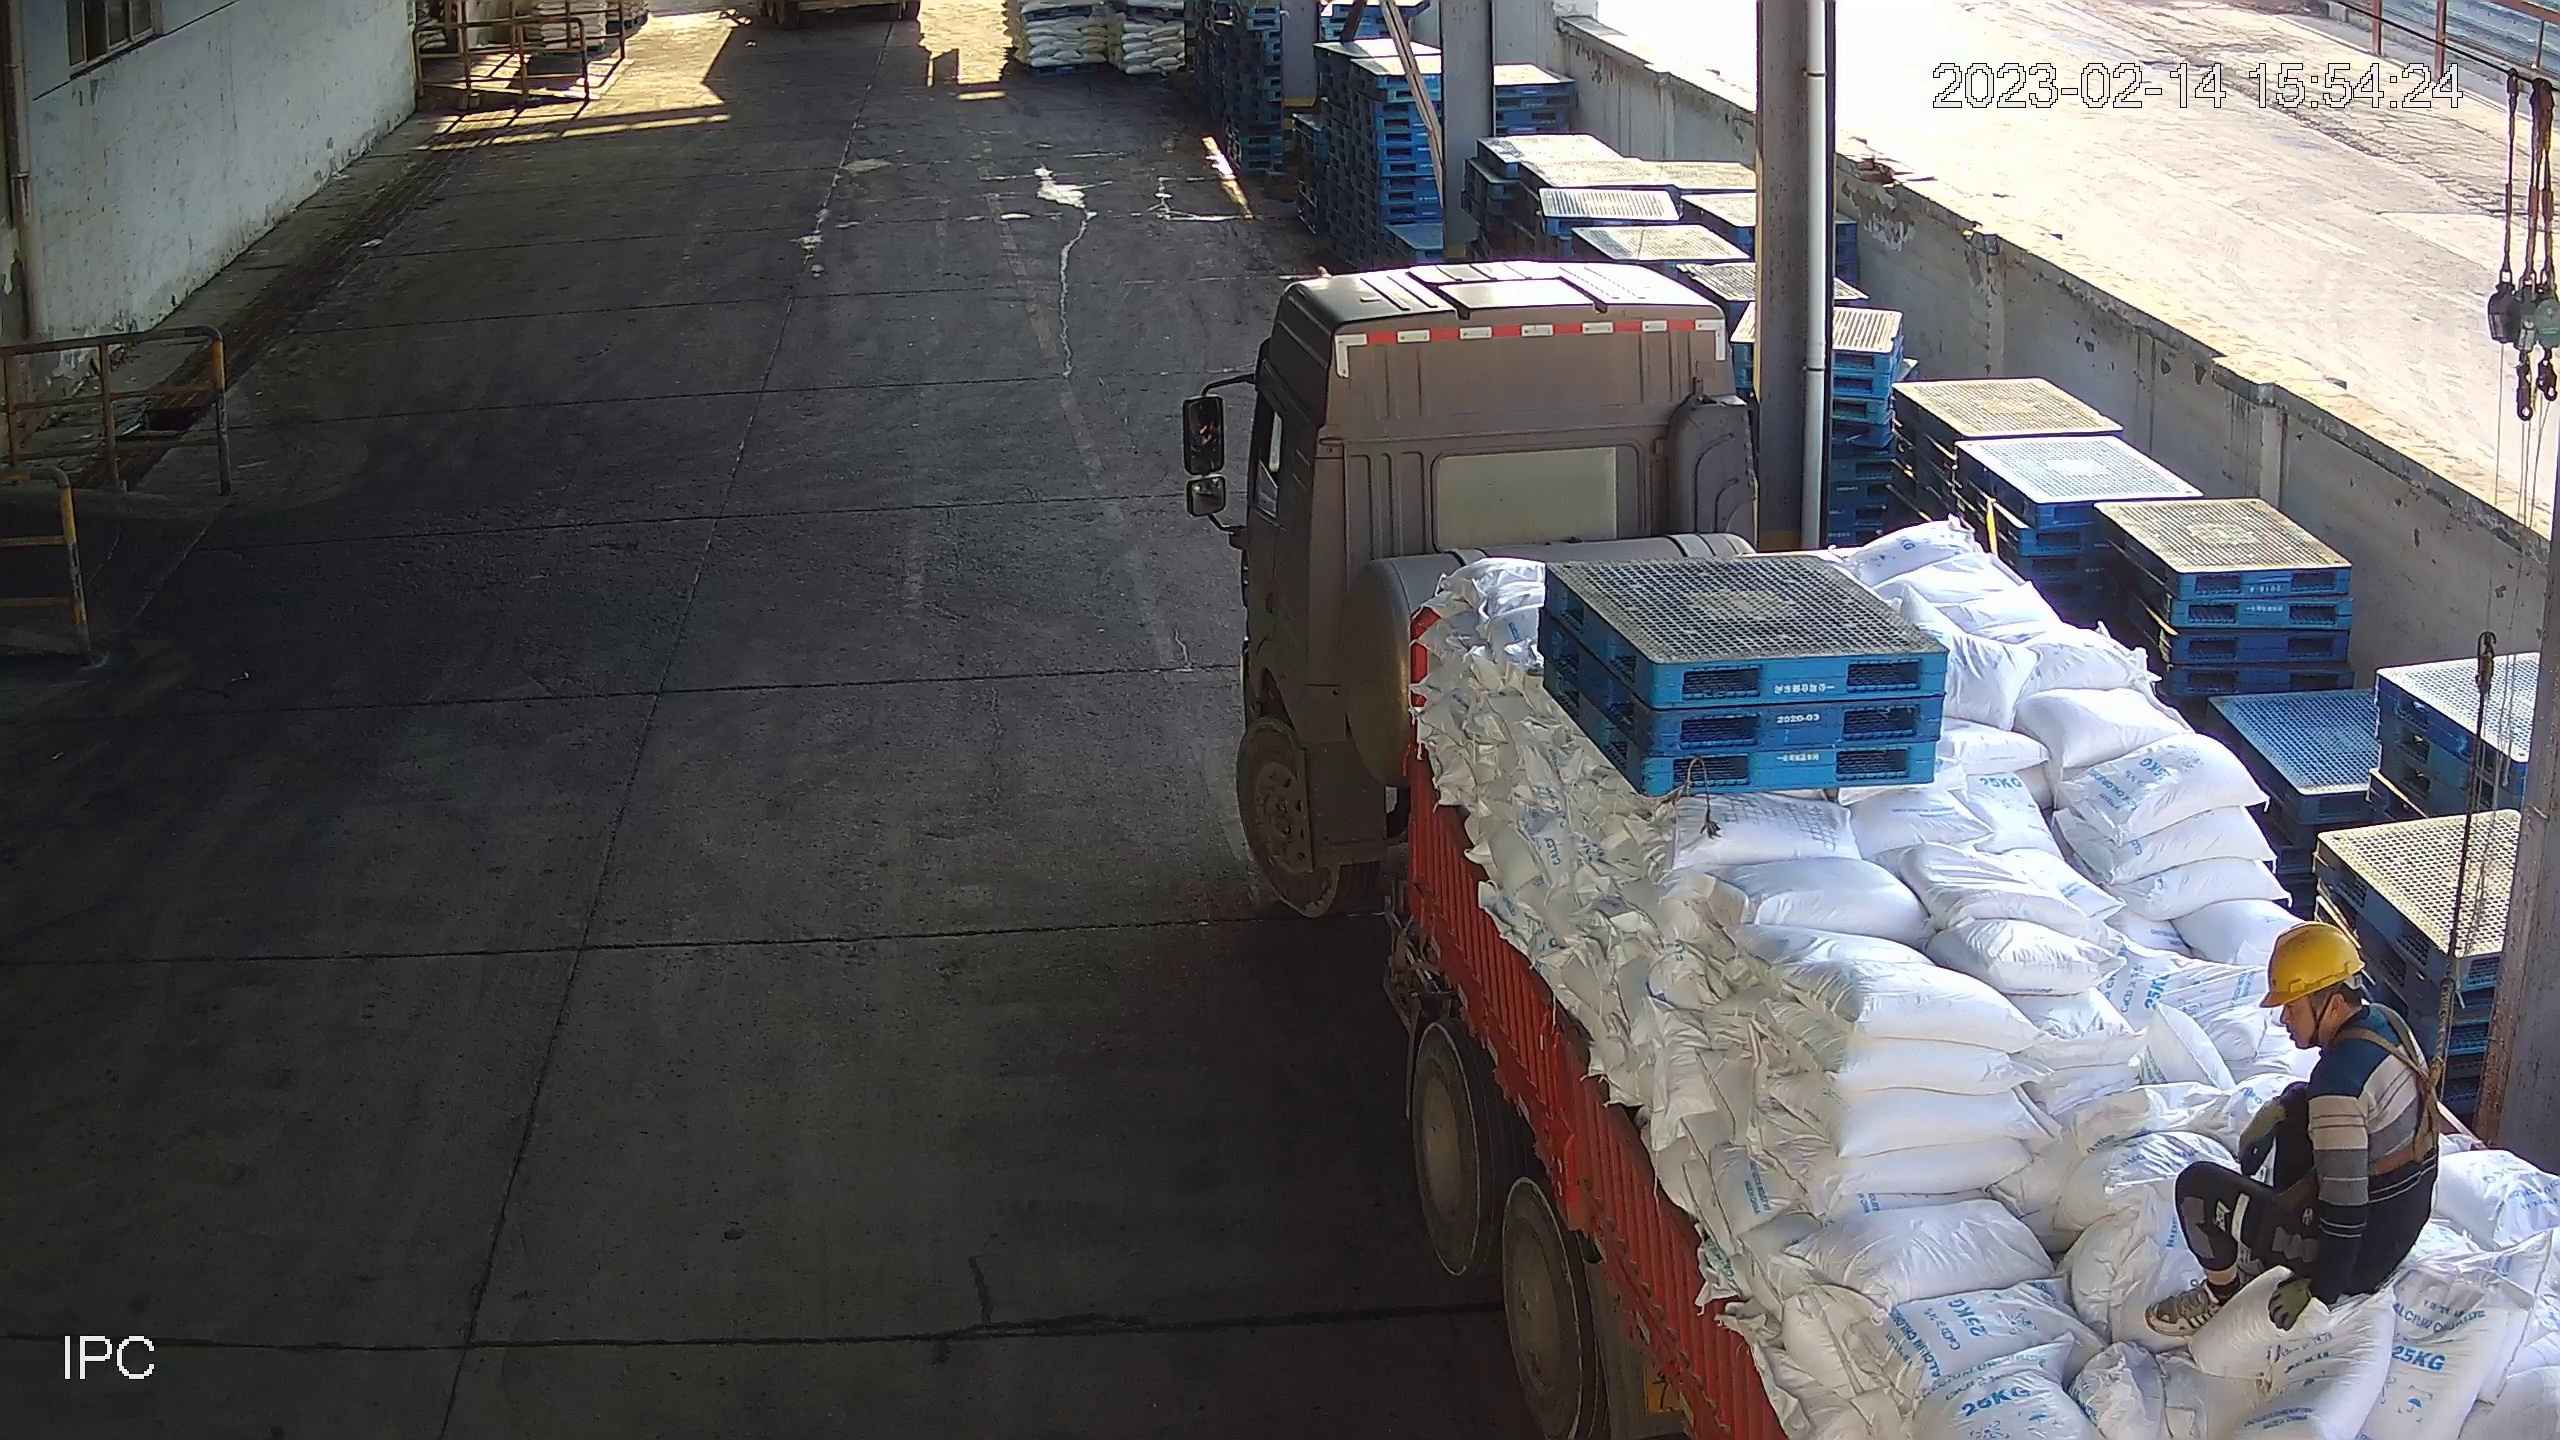belt: (2344, 1008, 2451, 1171)
head: (2235, 922, 2437, 1140)
helmet: (2262, 925, 2367, 1013)
people: (2137, 923, 2440, 1344)
truck: (1179, 254, 2560, 1440)
